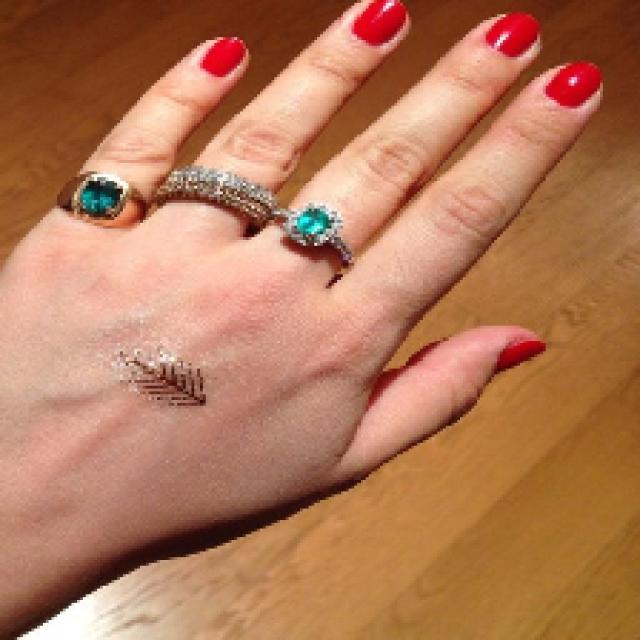Nail: (545, 61, 602, 108), (485, 11, 540, 58), (352, 0, 406, 45), (201, 36, 246, 76), (496, 339, 546, 371)
